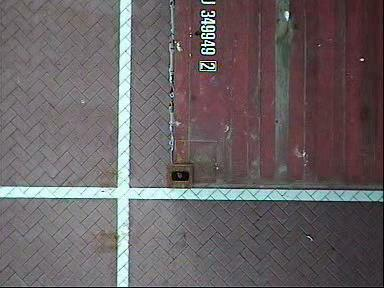groundmarker_2: (110, 65, 241, 131)
